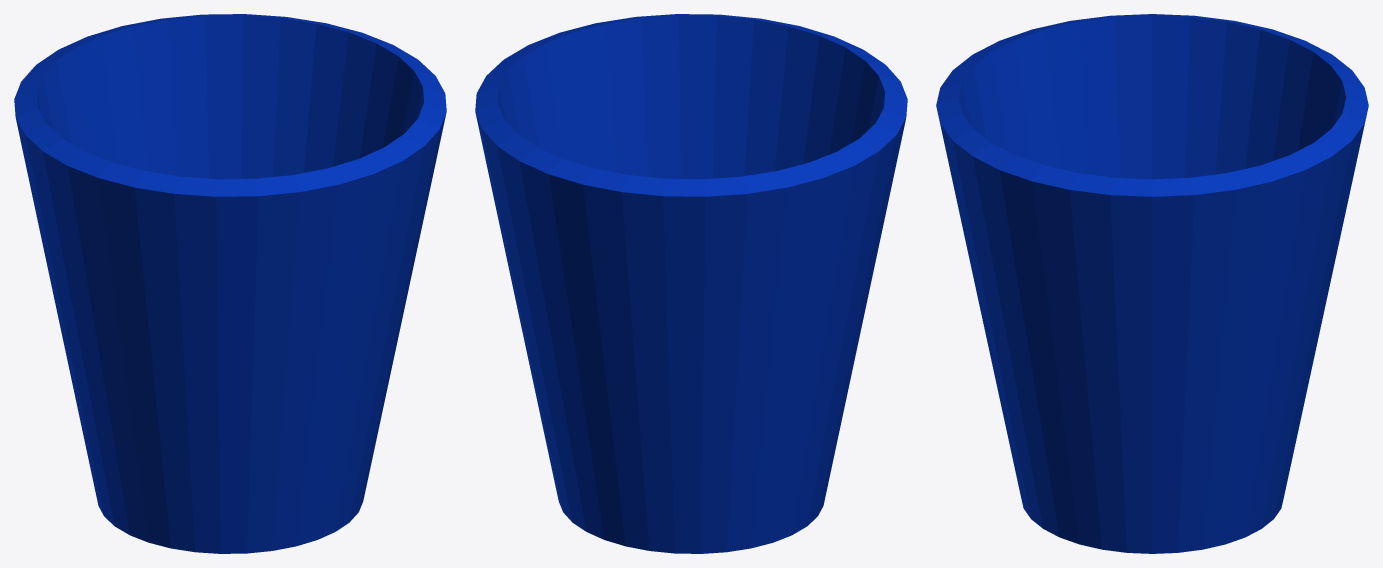
File: Unit567BinColour.fbx
3 views of the same model, side by side, from view 1: azimuth 30°, elevation 25°; view 2: azimuth 150°, elevation 25°; view 3: azimuth 270°, elevation 25° (orthographic).
Visible parts, largest first — view 1: Cylinder; view 2: Cylinder; view 3: Cylinder.
Boxes of the visible parts, left/top/right/bottom form: Cylinder: left=14, top=14, right=446, bottom=553; Cylinder: left=475, top=14, right=907, bottom=553; Cylinder: left=936, top=14, right=1368, bottom=553.
Size of the model in its own units: 200 by 204 by 200.
